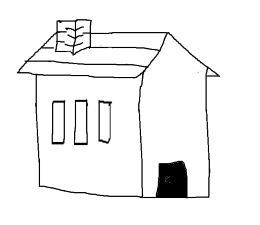chimney: (51, 15, 96, 54)
door: (153, 152, 193, 202)
open_window: (91, 100, 123, 150), (45, 97, 69, 152), (69, 93, 92, 149)
roof: (11, 26, 228, 80)
wall: (25, 74, 153, 195), (132, 71, 226, 206)
